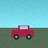vehicle: (11, 26, 34, 39)
